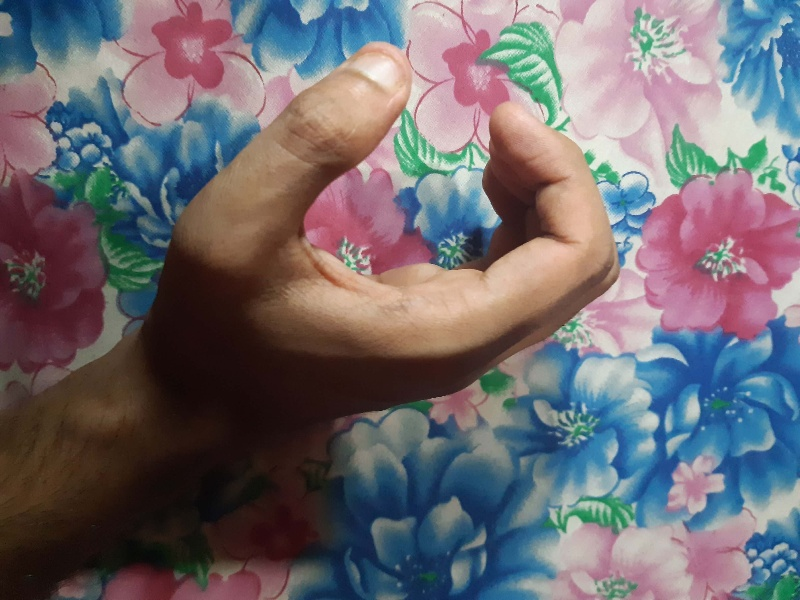one: (149, 31, 646, 455)
